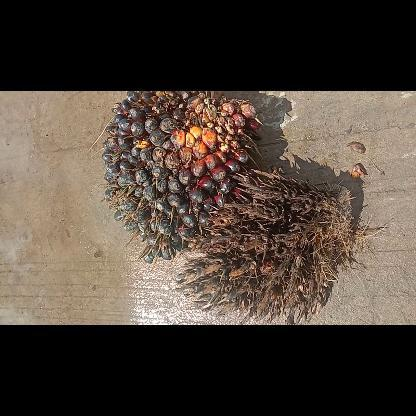Janjang kosong: (175, 168, 356, 324)
TBS mentah: (100, 91, 262, 267)
